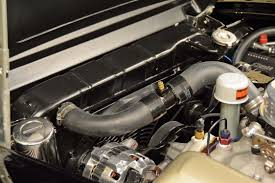radiator_hose: (60, 60, 263, 137)
